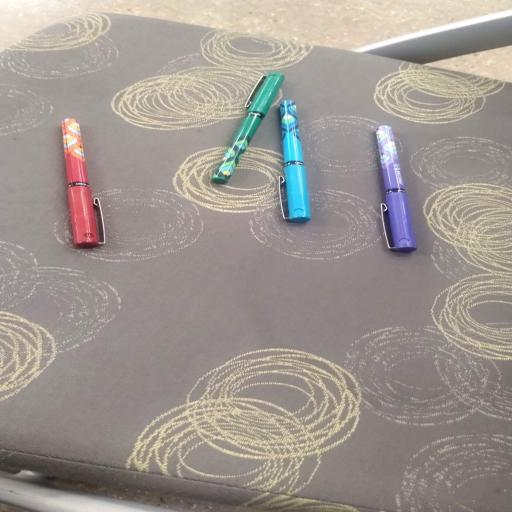pen: (212, 73, 284, 183), (62, 119, 104, 248), (376, 126, 416, 252), (279, 101, 310, 222)
